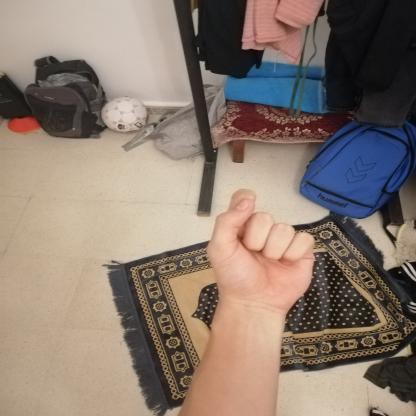FAA: (194, 181, 330, 321)
